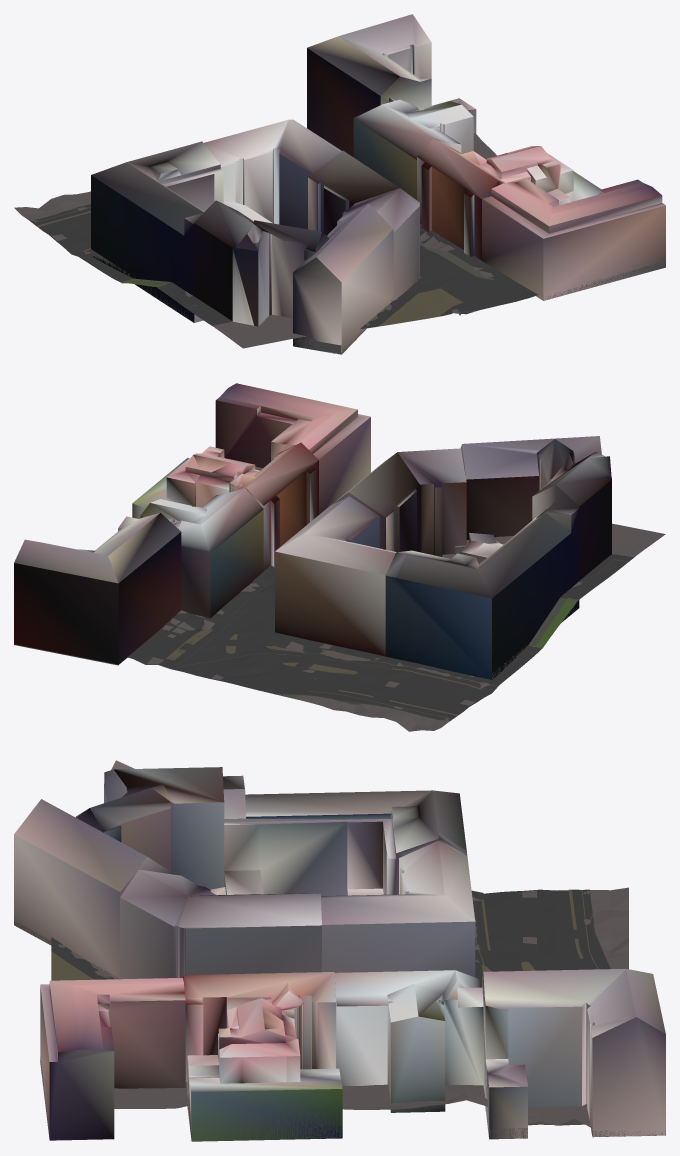
The picture shows the model from 3 angles, top to bottom: view 1: azimuth 30°, elevation 25°; view 2: azimuth 150°, elevation 25°; view 3: azimuth 270°, elevation 25°; orthographic projection. The views are drawn at different scales.
Parts seen in each view (by area): view 1: c_m01_m15; view 2: c_m01_m15; view 3: c_m01_m15.
Boxes of the visible parts, box(x1,y1,x2,y2) form: c_m01_m15: box(14, 14, 665, 354); c_m01_m15: box(14, 383, 665, 731); c_m01_m15: box(14, 760, 665, 1141).
Size of the model in its own units: 136 by 37.87 by 144.
